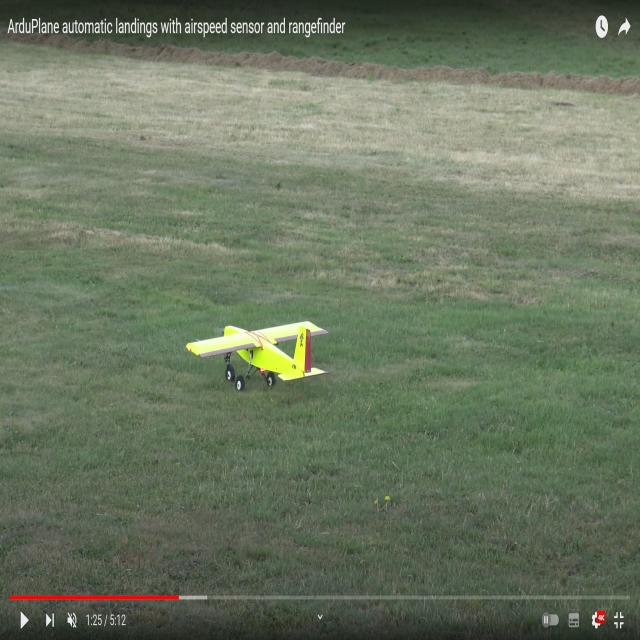iha: (193, 344, 323, 366)
